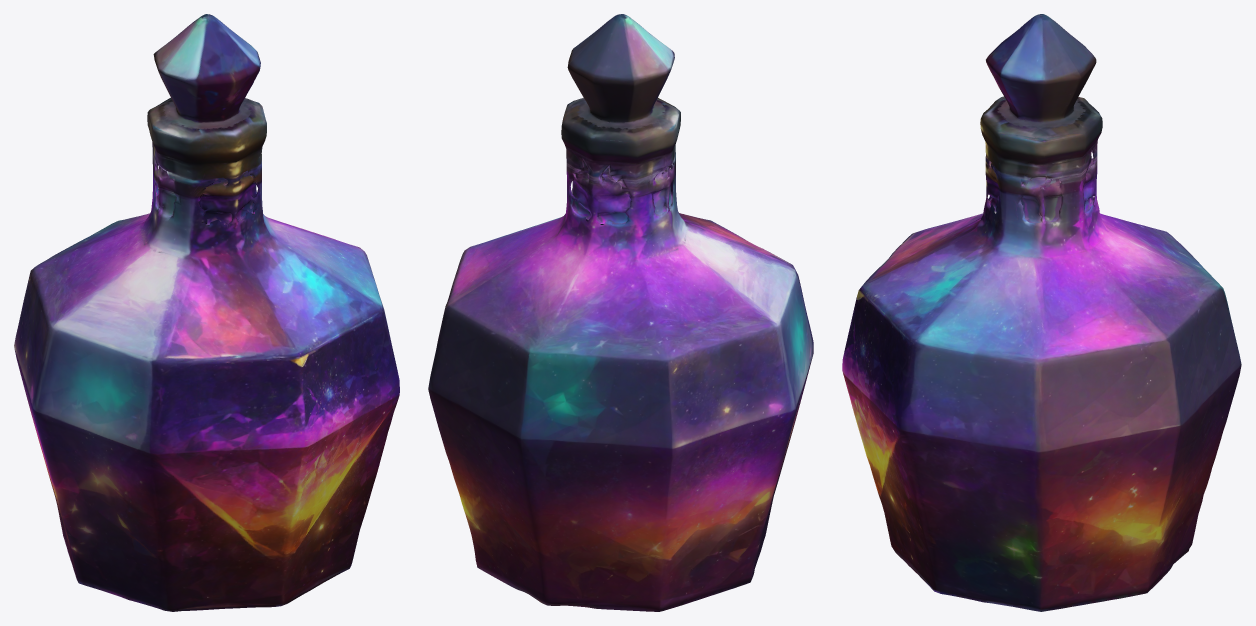
The model's file is Fantasy_magic_low_pol_0502070221.fbx.
3 renders of one model, left to right at view 1: azimuth 30°, elevation 25°; view 2: azimuth 150°, elevation 25°; view 3: azimuth 270°, elevation 25°, orthographic.
Visible parts, largest first — view 1: Mesh_0; view 2: Mesh_0; view 3: Mesh_0.
Part boxes in pixels (box(x1,y1,x2,y2)): Mesh_0: box(14, 14, 399, 611); Mesh_0: box(428, 14, 813, 611); Mesh_0: box(842, 14, 1241, 611).
Bounding box in the file's own units: 134 × 199 × 135.
Materials: 1 (1 with a texture image).
